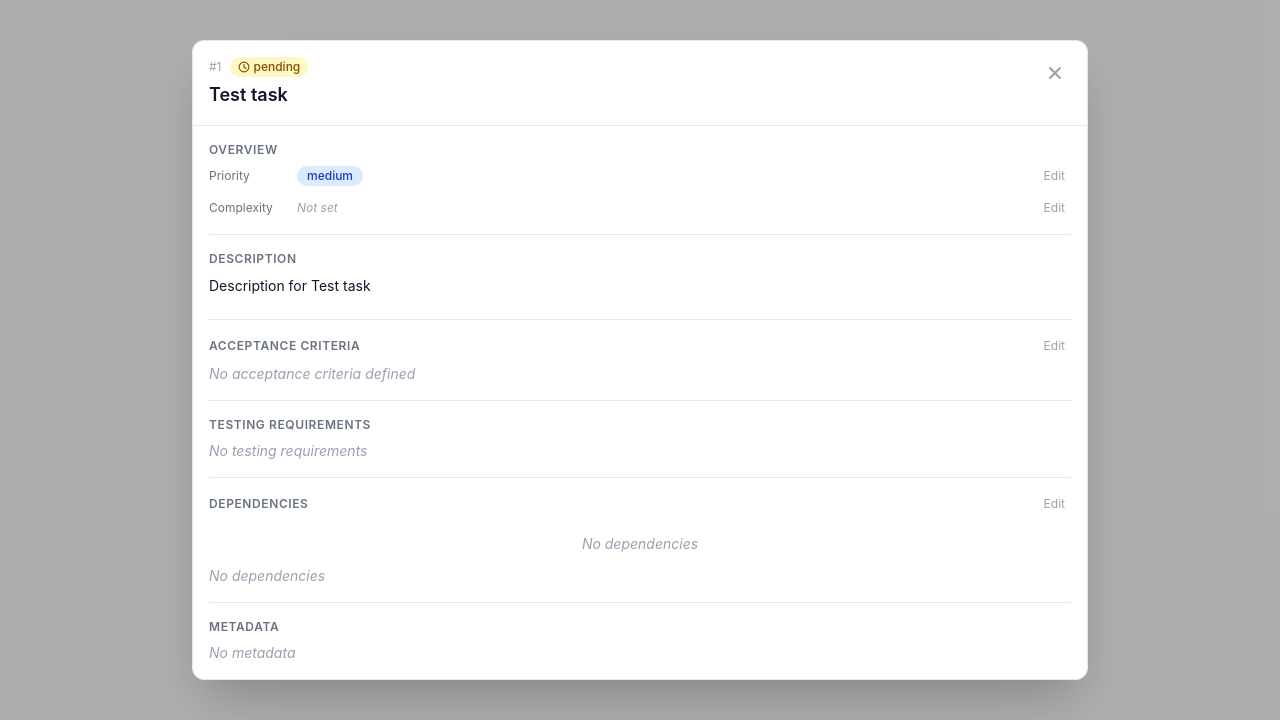
TaskDetailPanel inline editing › priority editing › shows priority dropdown when edit is clicked
The width and height of the screenshot is (1280, 720).
Click the button with test id "edit-priority-button" at (1054, 176), box [1038,166,1071,186]
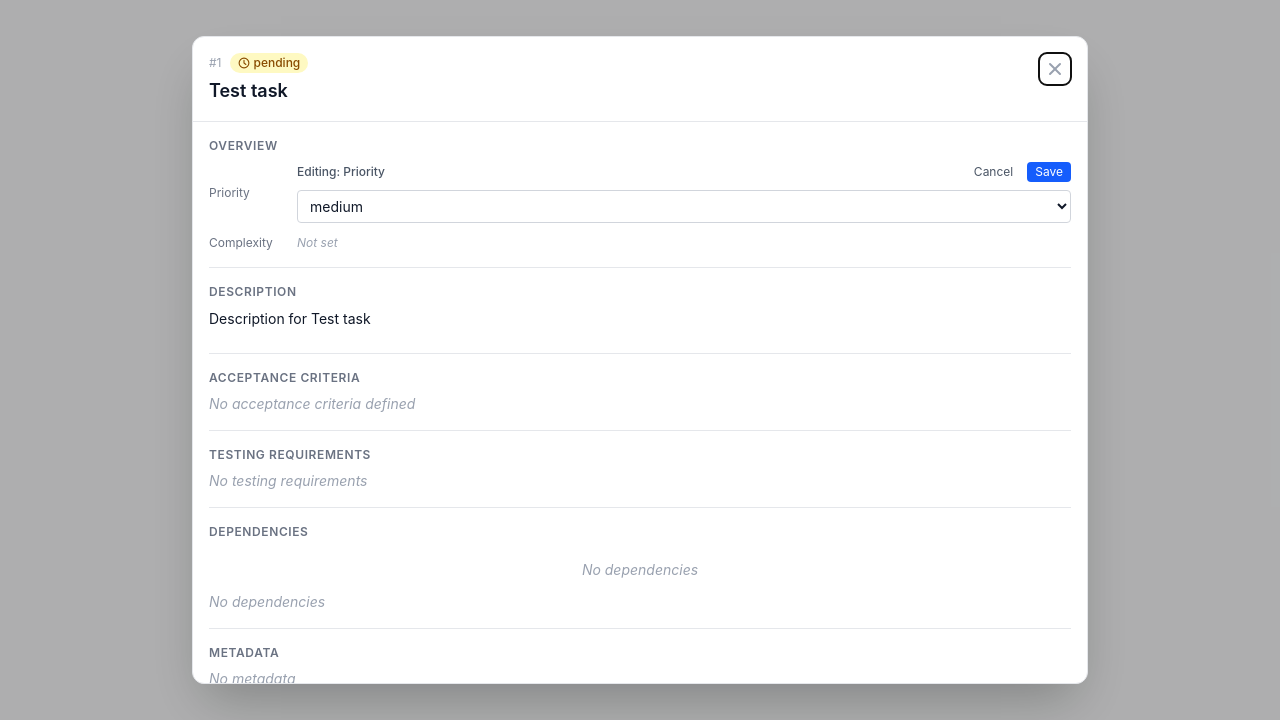
Result: the dropdown with test id "priority-select" is shown at [297,190,1071,223]
Result: the button with test id "field-save-button" is shown at [1027,162,1071,182]
Result: the button with test id "field-cancel-button" is shown at [966,162,1021,182]
